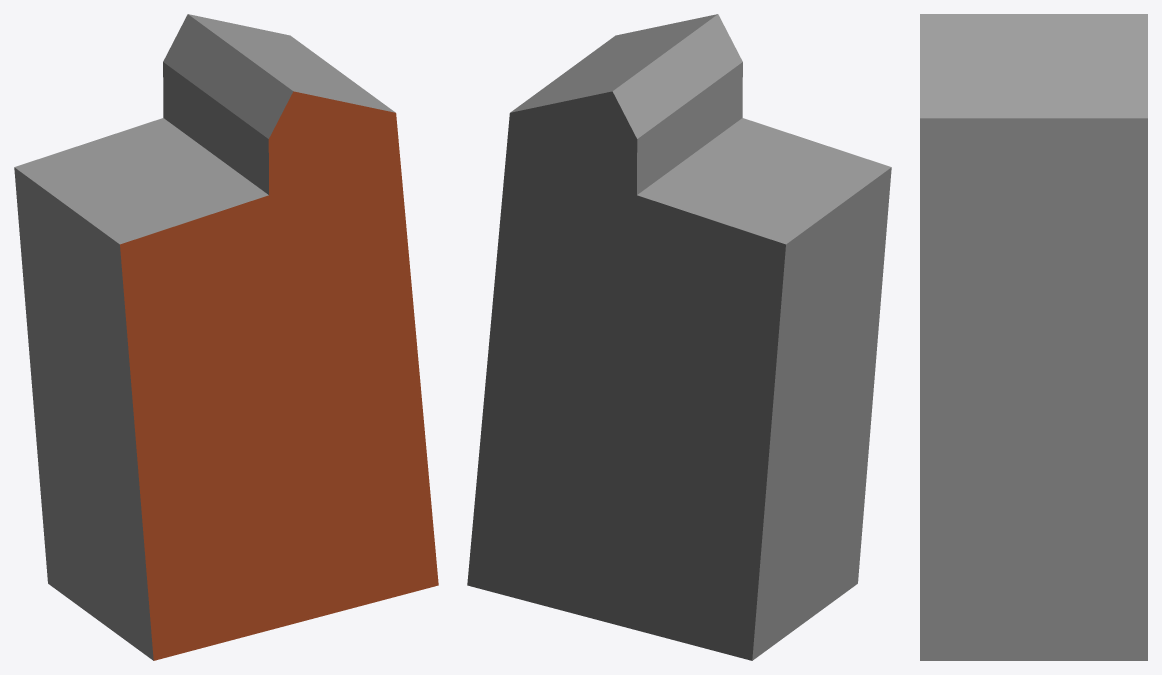
The model's file is construction_1734_assumed_A_Casa_h6m.obj.
3 renders of one model, left to right at view 1: azimuth 30°, elevation 25°; view 2: azimuth 150°, elevation 25°; view 3: azimuth 270°, elevation 25°, orthographic. The views are drawn at different scales.
Visible parts, largest first — view 1: construction_1734_assumed_A_Casa; view 2: construction_1734_assumed_A_Casa; view 3: construction_1734_assumed_A_Casa.
Part boxes in pixels (x1,y1,x2,y2): construction_1734_assumed_A_Casa: (14,14,438,660); construction_1734_assumed_A_Casa: (467,14,891,660); construction_1734_assumed_A_Casa: (920,14,1147,660).
Bounding box in the file's own units: 10.45 × 16.77 × 6.
